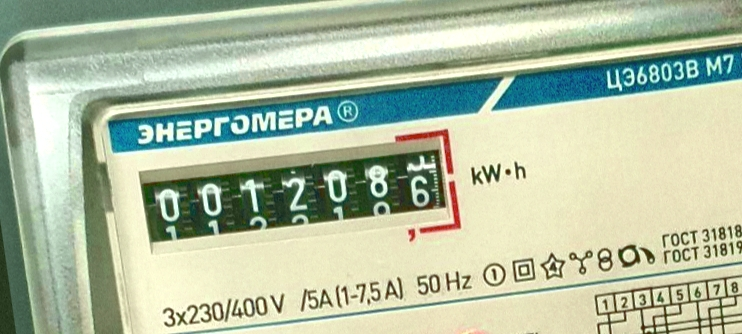0: (151, 183, 182, 225), (195, 179, 224, 219), (319, 165, 348, 204)
1: (237, 174, 263, 216)
2: (279, 173, 310, 214)
6: (403, 171, 431, 210)
8: (360, 161, 390, 201)
screen: (128, 120, 470, 278)
